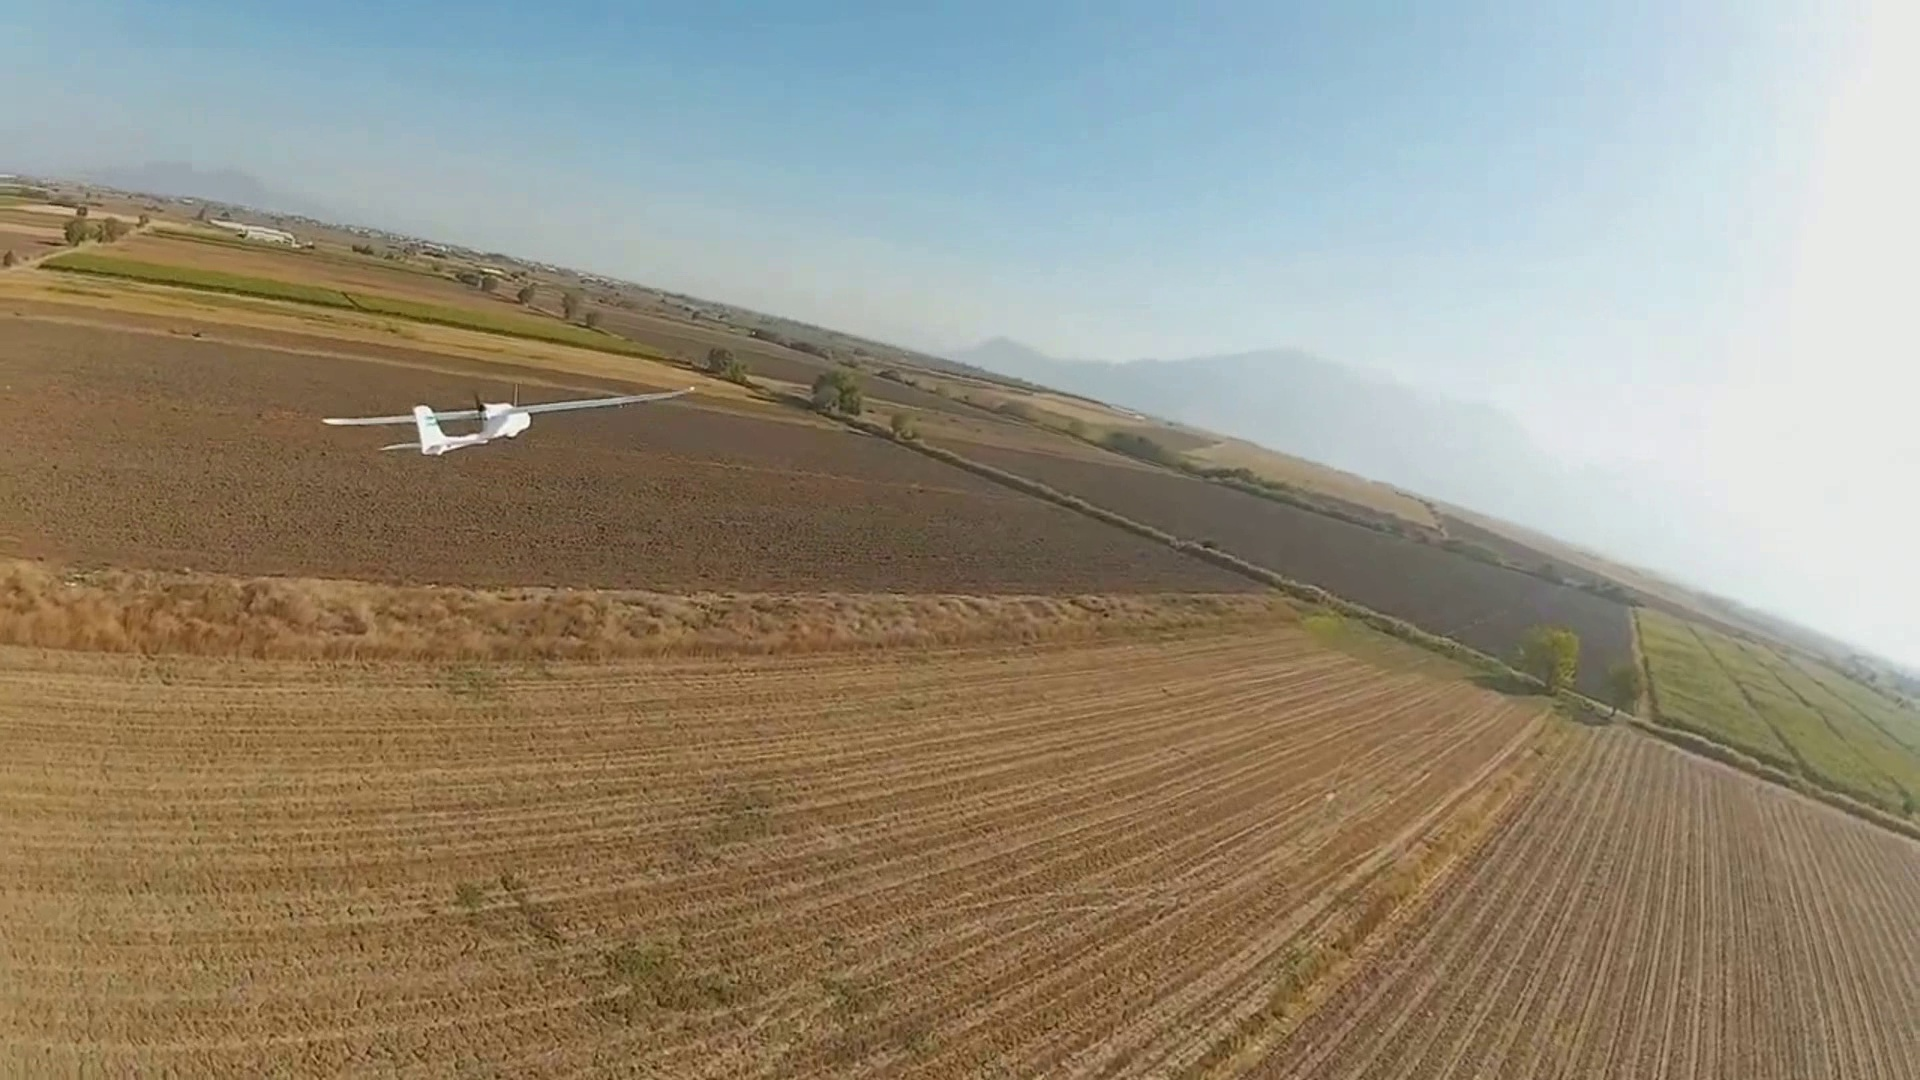airplane: (254, 255, 1919, 736), (321, 400, 534, 459)
